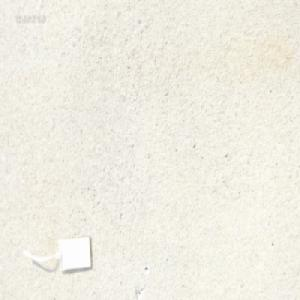LuggageTag: (19, 232, 93, 274)
